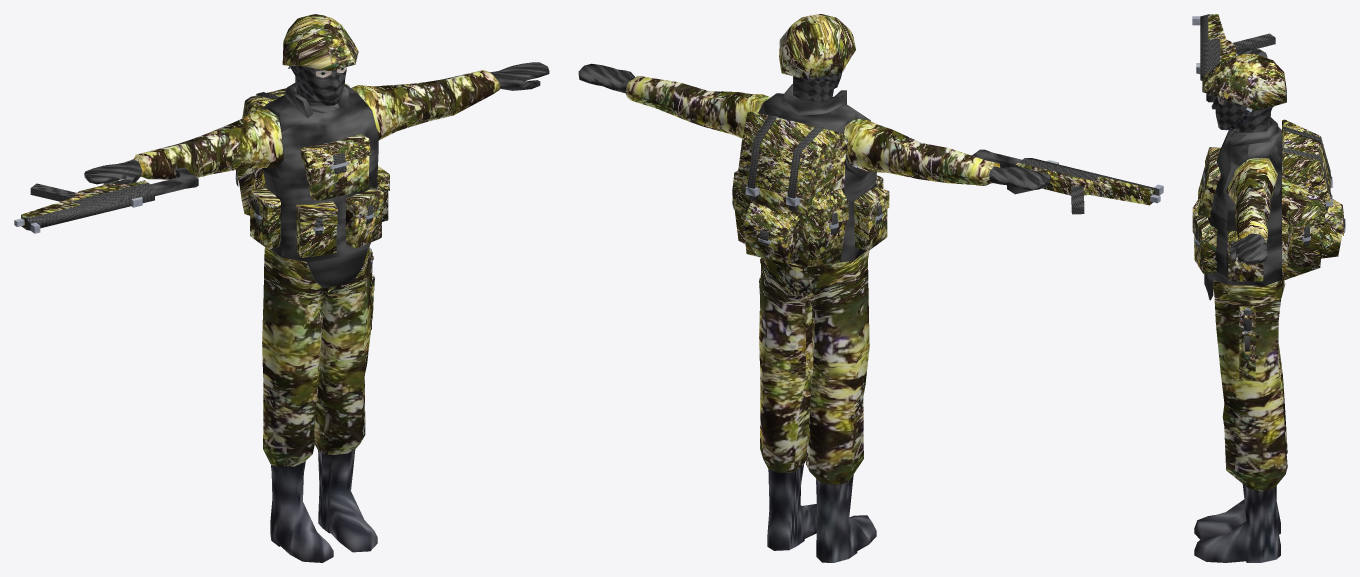
File: soldier_camo.glb
3 renders of one model, left to right at view 1: azimuth 30°, elevation 25°; view 2: azimuth 150°, elevation 25°; view 3: azimuth 270°, elevation 25°, orthographic. The views are drawn at different scales.
Parts seen in each view (by area): view 1: legs, arms, vest, boots, bags, baglids, MP5, hat, hands, head, MP5grip; view 2: legs, arms, baglids, boots, bags, vest, hat, hands, MP5grip, MP5, ribbon, head; view 3: legs, vest, baglids, bags, boots, hat, arms, MP5, head, hands, bladecover, ribbon (+2 smaller).
Part boxes in pixels (x1,y1,x2,y2): legs: (262,245,370,467); arms: (134,70,499,179); vest: (262,83,378,288); boots: (270,449,377,562); bags: (239,156,388,257); baglids: (237,83,389,228); MP5: (26,167,198,230); hat: (282,14,358,70); hands: (84,62,549,184); head: (293,66,346,113); MP5grip: (21,180,147,229); legs: (759,250,869,484); arms: (625,76,1000,185); baglids: (732,111,889,244); boots: (767,465,876,562); bags: (734,153,887,267); vest: (758,84,876,262); hat: (779,14,855,79); hands: (578,63,1050,190); MP5grip: (1015,163,1154,205); MP5: (972,149,1159,214); ribbon: (732,114,881,246); head: (793,72,842,101); legs: (1213,280,1287,491); vest: (1204,117,1282,300); baglids: (1192,119,1343,253); bags: (1194,167,1342,281); boots: (1194,484,1280,562); hat: (1202,54,1286,110); arms: (1226,112,1277,243); MP5: (1200,14,1275,102); head: (1211,97,1272,140); hands: (1230,48,1267,263); bladecover: (1239,306,1255,380); ribbon: (1195,126,1345,248).
Bounding box in the file's own units: 7.03 × 6.32 × 1.8.
6 materials, 6 textured.
